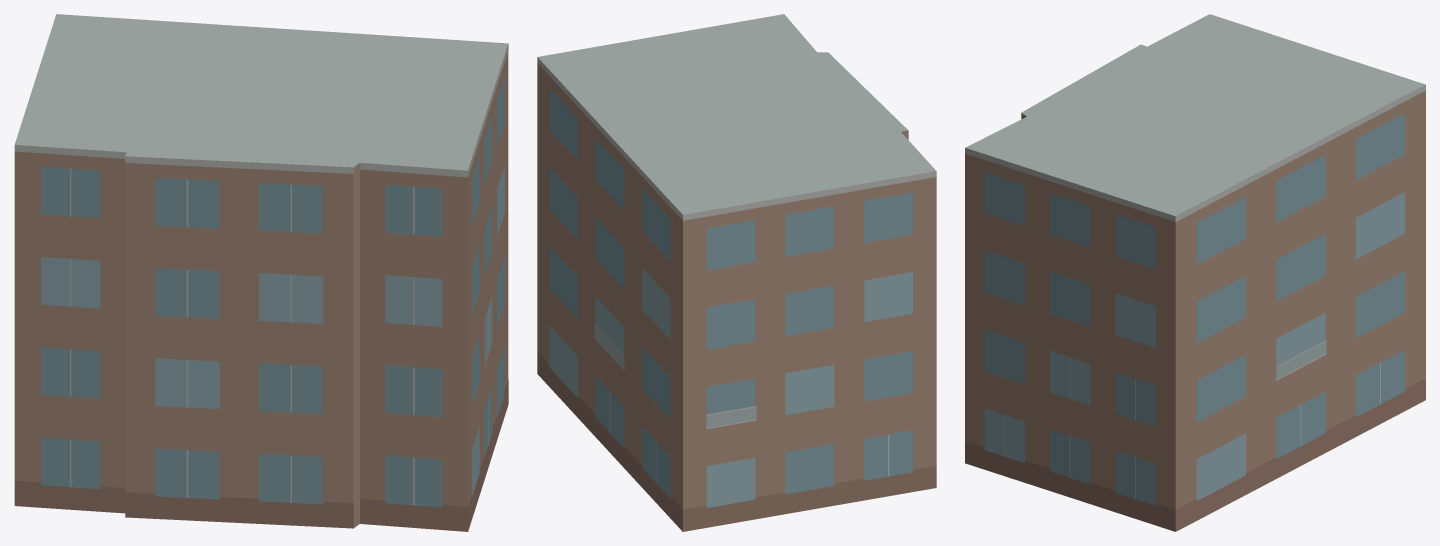
Rendered from survey-upis-32629408.glb.
3 views of the same model, side by side, from view 1: azimuth 30°, elevation 25°; view 2: azimuth 150°, elevation 25°; view 3: azimuth 270°, elevation 25° (orthographic). The views are drawn at different scales.
Visible parts, largest first — view 1: survey-upis-32629408.tmp; view 2: survey-upis-32629408.tmp; view 3: survey-upis-32629408.tmp.
Part boxes in pixels (x1,y1,x2,y2): survey-upis-32629408.tmp: [14, 14, 508, 531]; survey-upis-32629408.tmp: [537, 14, 936, 531]; survey-upis-32629408.tmp: [965, 14, 1425, 531].
Bounding box in the file's own units: 18.16 × 13.2 × 17.47.
